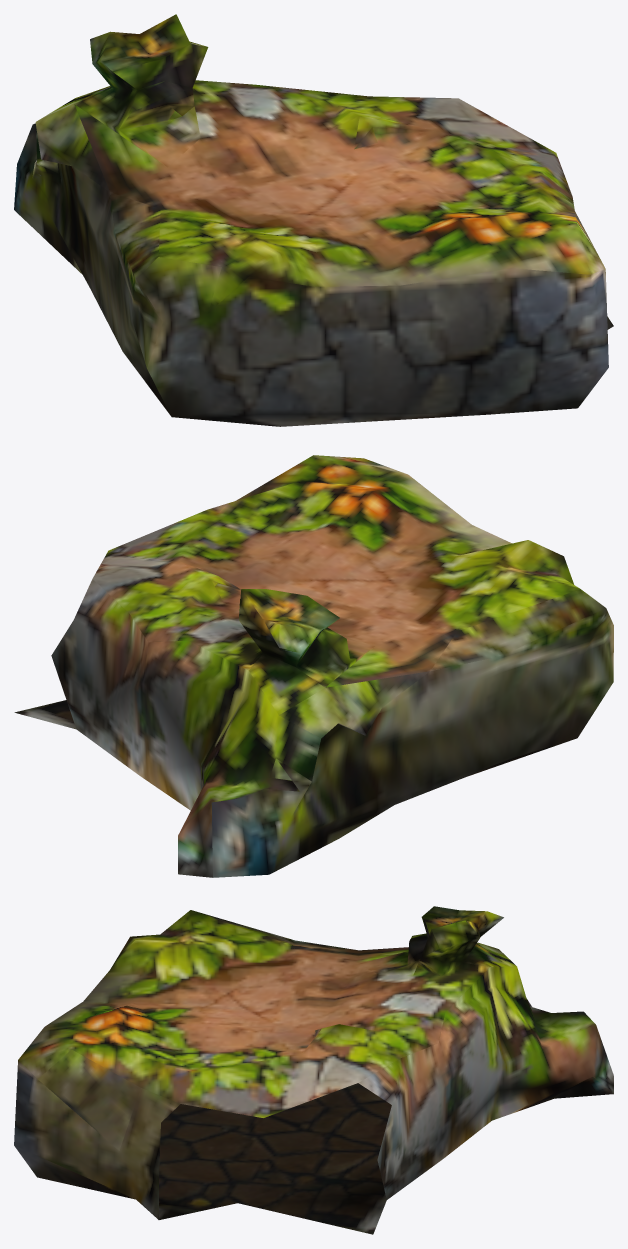
File: TropicalForest_Floor.fbx
3 views of the same model, one above another, from view 1: azimuth 30°, elevation 25°; view 2: azimuth 150°, elevation 25°; view 3: azimuth 270°, elevation 25° (orthographic). The views are drawn at different scales.
Visible parts, largest first — view 1: TropicalForest_Floor_Mesh; view 2: TropicalForest_Floor_Mesh; view 3: TropicalForest_Floor_Mesh.
Boxes of the visible parts, x1,y1,x2,y2 form: TropicalForest_Floor_Mesh: (14,14,613,426); TropicalForest_Floor_Mesh: (14,455,613,877); TropicalForest_Floor_Mesh: (14,906,613,1234).
Size of the model in its own units: 6 by 2.78 by 7.57.
1 material, 1 textured.
